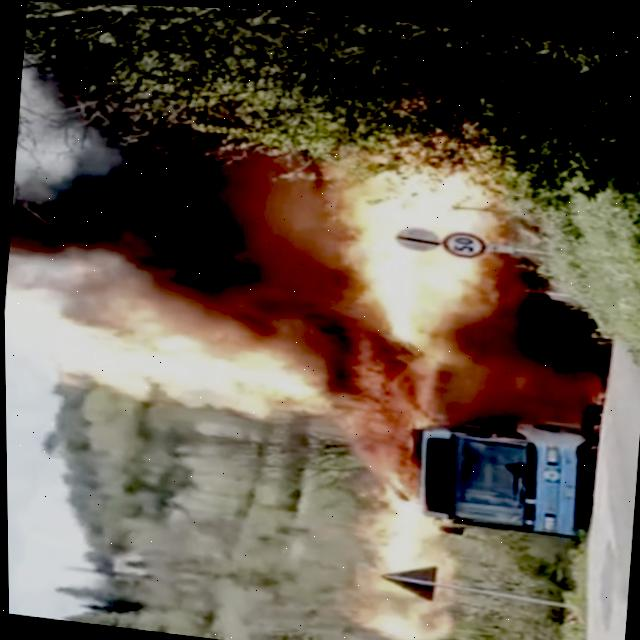Fire: (332, 116, 499, 334), (4, 312, 331, 419), (349, 483, 452, 633)
Smoke: (6, 54, 345, 298), (484, 291, 590, 408)
